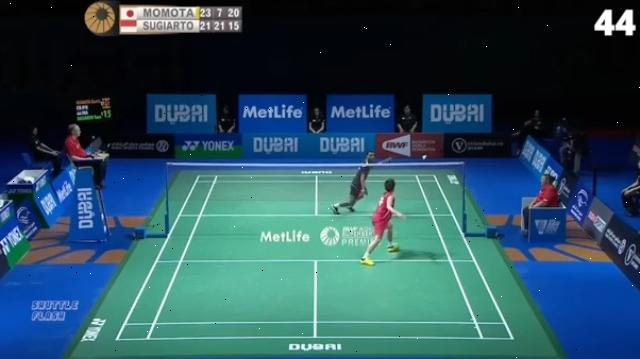Shuttlecock: (422, 152, 431, 162)
